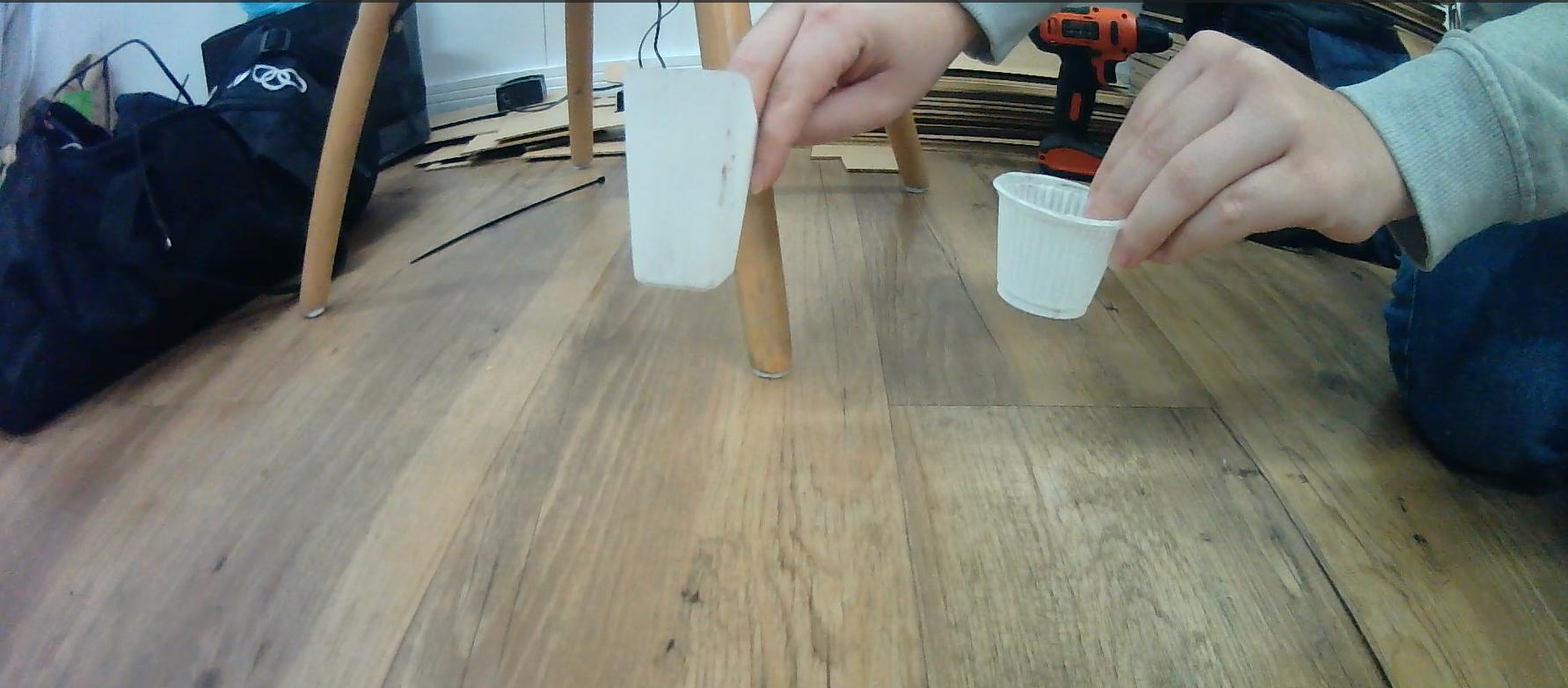erva_daninha: (621, 68, 759, 293)
planta: (993, 170, 1126, 322)
